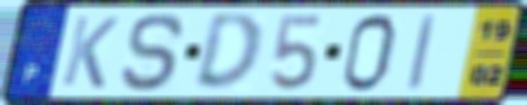0: (340, 11, 402, 93)
5: (265, 12, 327, 93)
D: (190, 10, 264, 94)
I: (404, 12, 440, 94)
K: (58, 13, 122, 91)
S: (117, 11, 189, 94)
